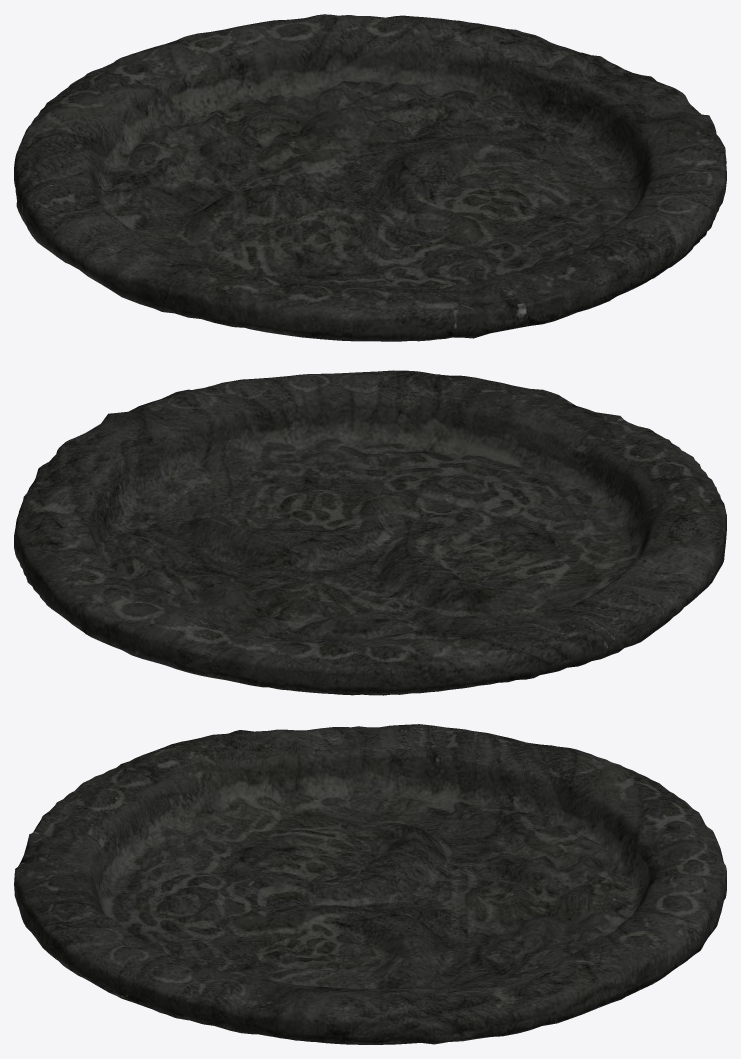
Rendered from bunhwang.glb.
The picture shows the model from 3 angles, top to bottom: view 1: azimuth 30°, elevation 25°; view 2: azimuth 150°, elevation 25°; view 3: azimuth 270°, elevation 25°; orthographic projection.
Visible parts, largest first — view 1: 24HO0004_low; view 2: 24HO0004_low; view 3: 24HO0004_low.
Part boxes in pixels (bbox=[...]): 24HO0004_low: bbox=[14, 14, 726, 341]; 24HO0004_low: bbox=[14, 370, 726, 695]; 24HO0004_low: bbox=[14, 724, 726, 1044].
Size of the model in its own units: 0.3748 by 0.0463 by 0.3764.
1 material, 1 textured.
